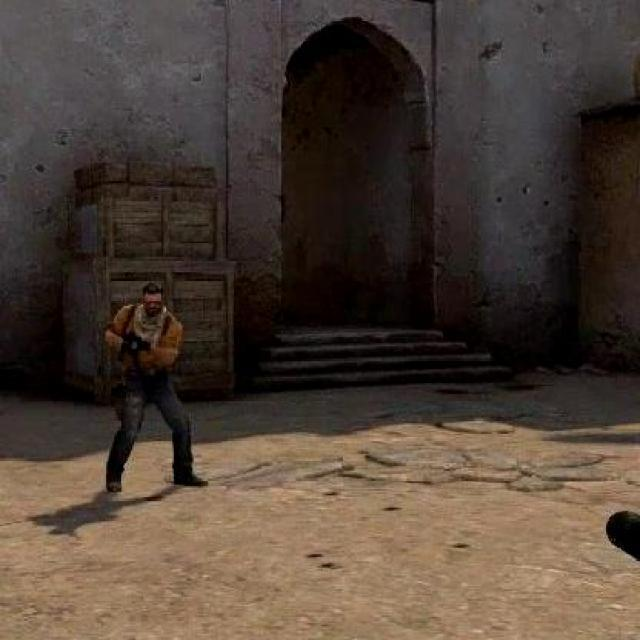Dead: (137, 284, 163, 318)
T-Body: (100, 282, 203, 498)
